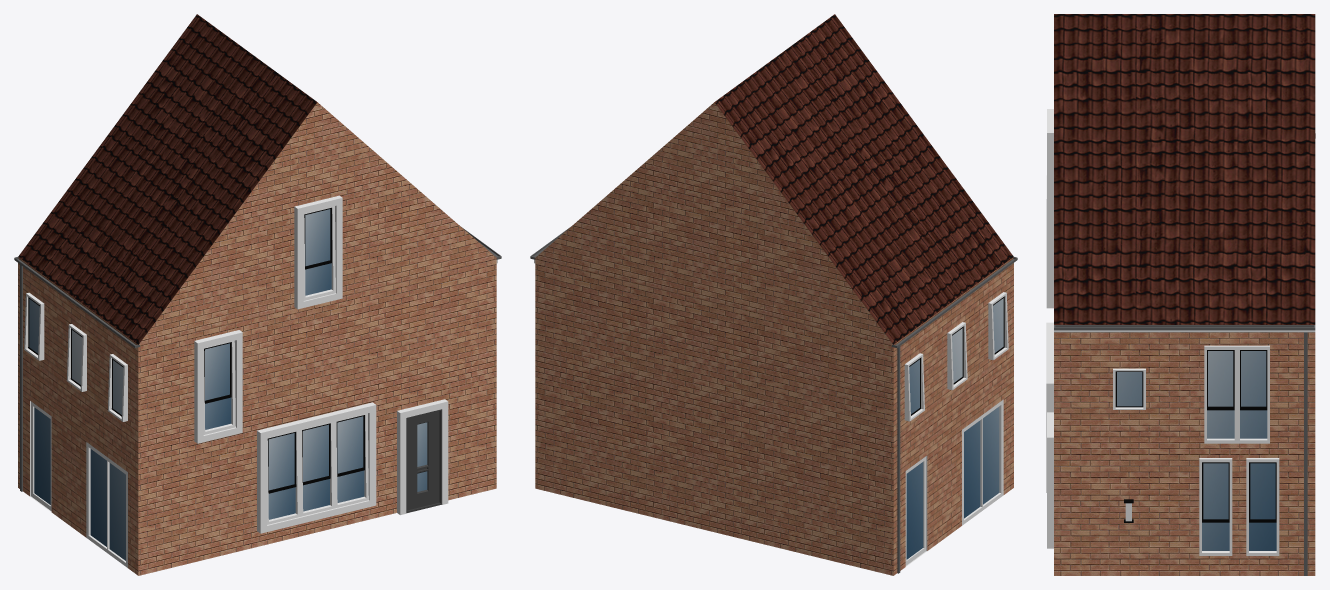
Rendered from Woning_39723_B2Z2.fbx.
3 renders of one model, left to right at view 1: azimuth 30°, elevation 25°; view 2: azimuth 150°, elevation 25°; view 3: azimuth 270°, elevation 25°, orthographic. The views are drawn at different scales.
Parts seen in each view (by area): view 1: Woning_39723_B2Z2; view 2: Woning_39723_B2Z2; view 3: Woning_39723_B2Z2.
Part boxes in pixels (box(x1,y1,x2,y2)): Woning_39723_B2Z2: box(14, 14, 501, 575); Woning_39723_B2Z2: box(530, 14, 1017, 575); Woning_39723_B2Z2: box(1046, 14, 1315, 575).
Size of the model in its own units: 9.71 by 10.7 by 5.59.
